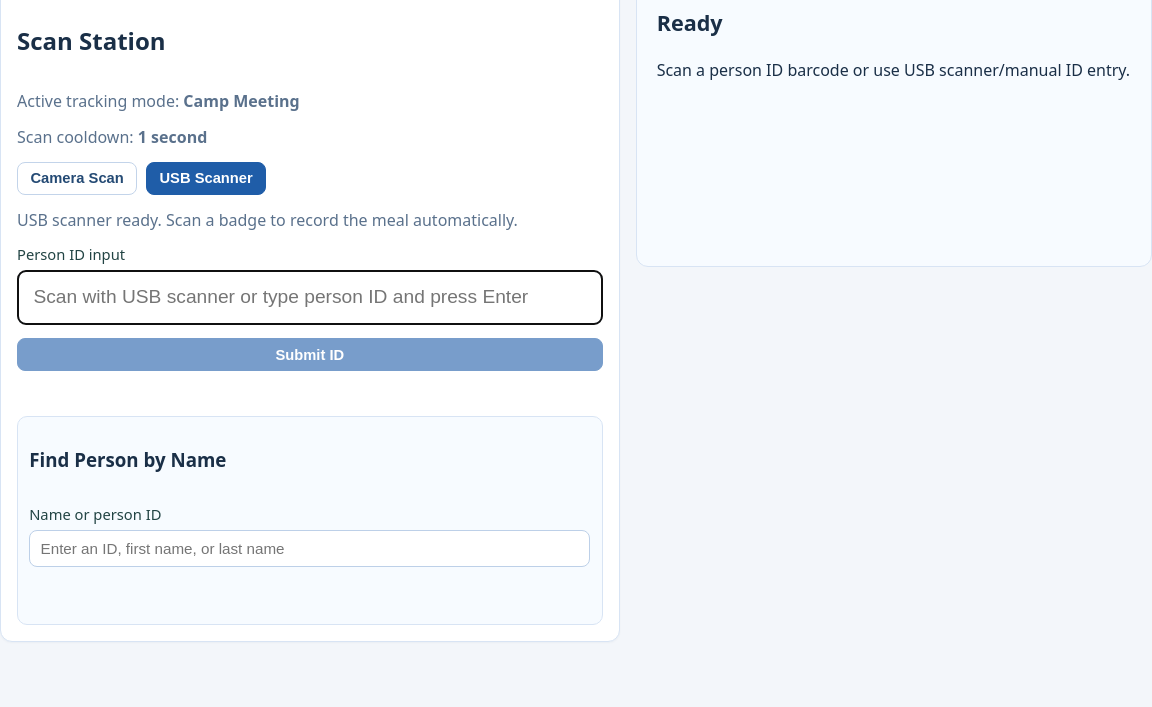
Scan station › hides the quantity control in Camp Meeting mode
Type "k" into the search field labelled "Name or person ID".
click(310, 548); type("k")  # box [29,530,590,567]
(page scrolled)
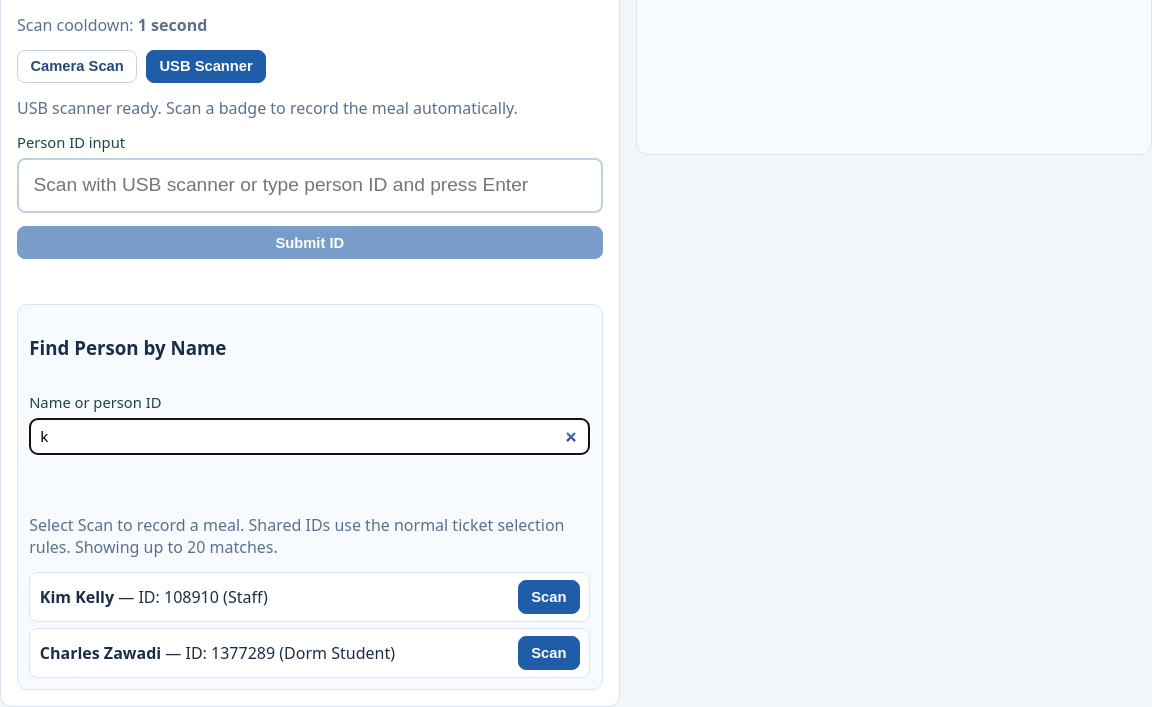
Expected: the text "Kim Kelly" is shown, [40,586,114,608]
